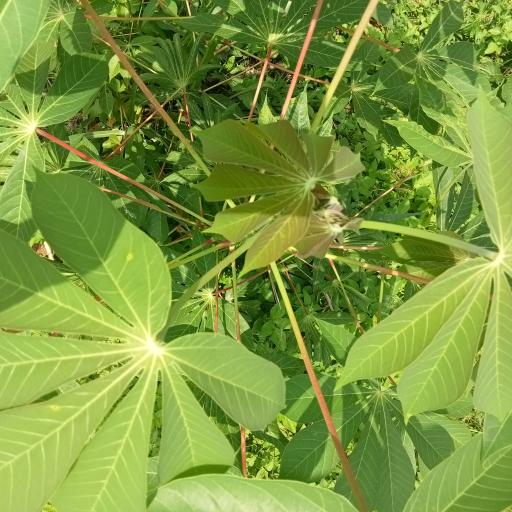Cassava_Healthy: (0, 203, 294, 512)
